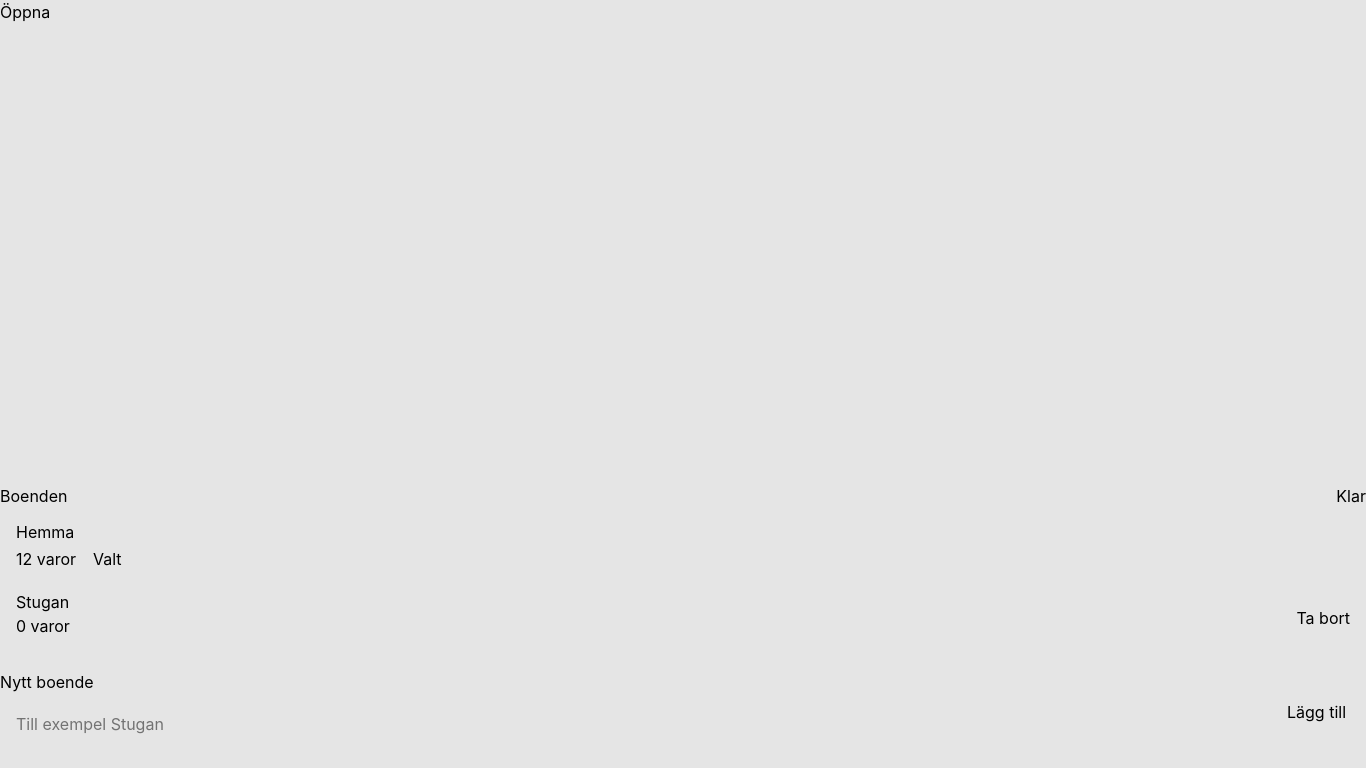
Test: SitesSheet › shows the server's message for a taken name under the field
Type "stugan" into the field labelled "Nytt boende". click: (630, 724)
box: [0,700,1259,748]
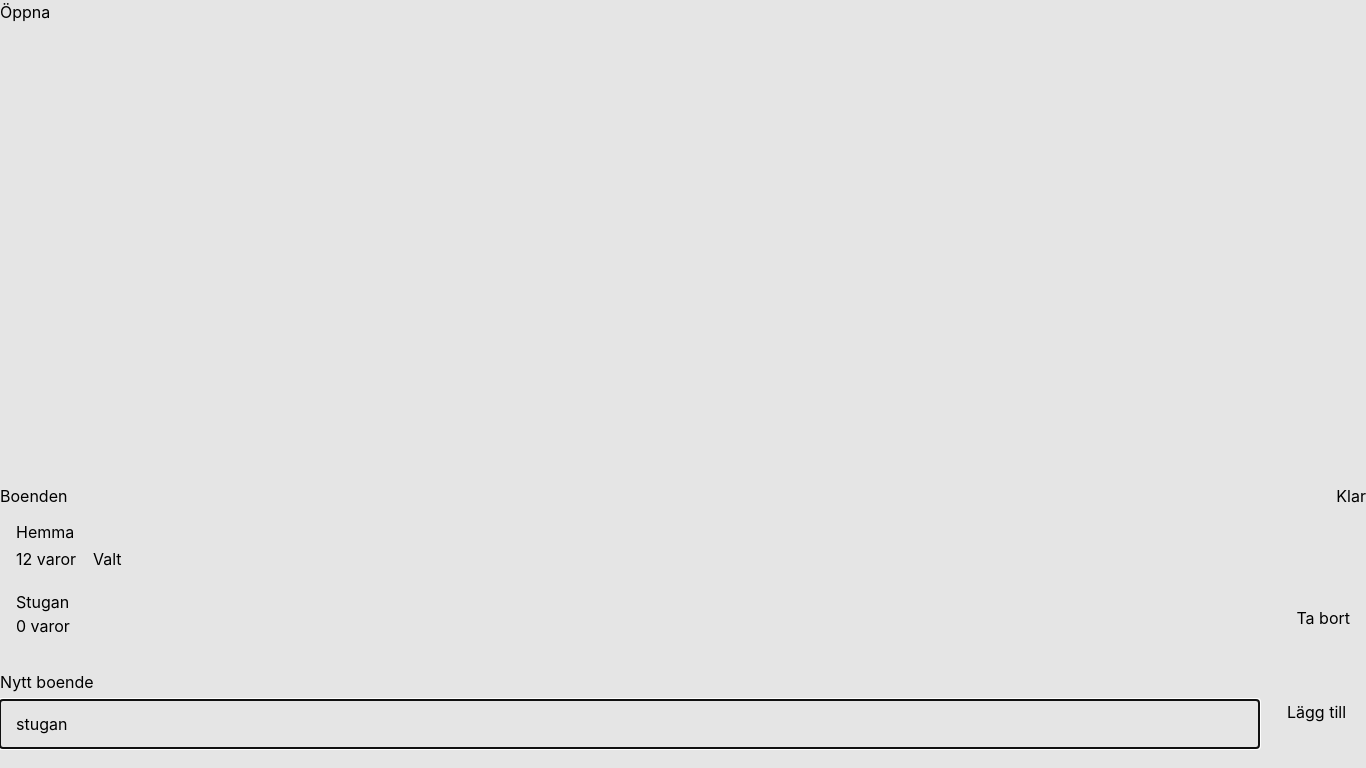
Click the button "Lägg till". click: (1316, 712)
box: [1267,700,1365,724]
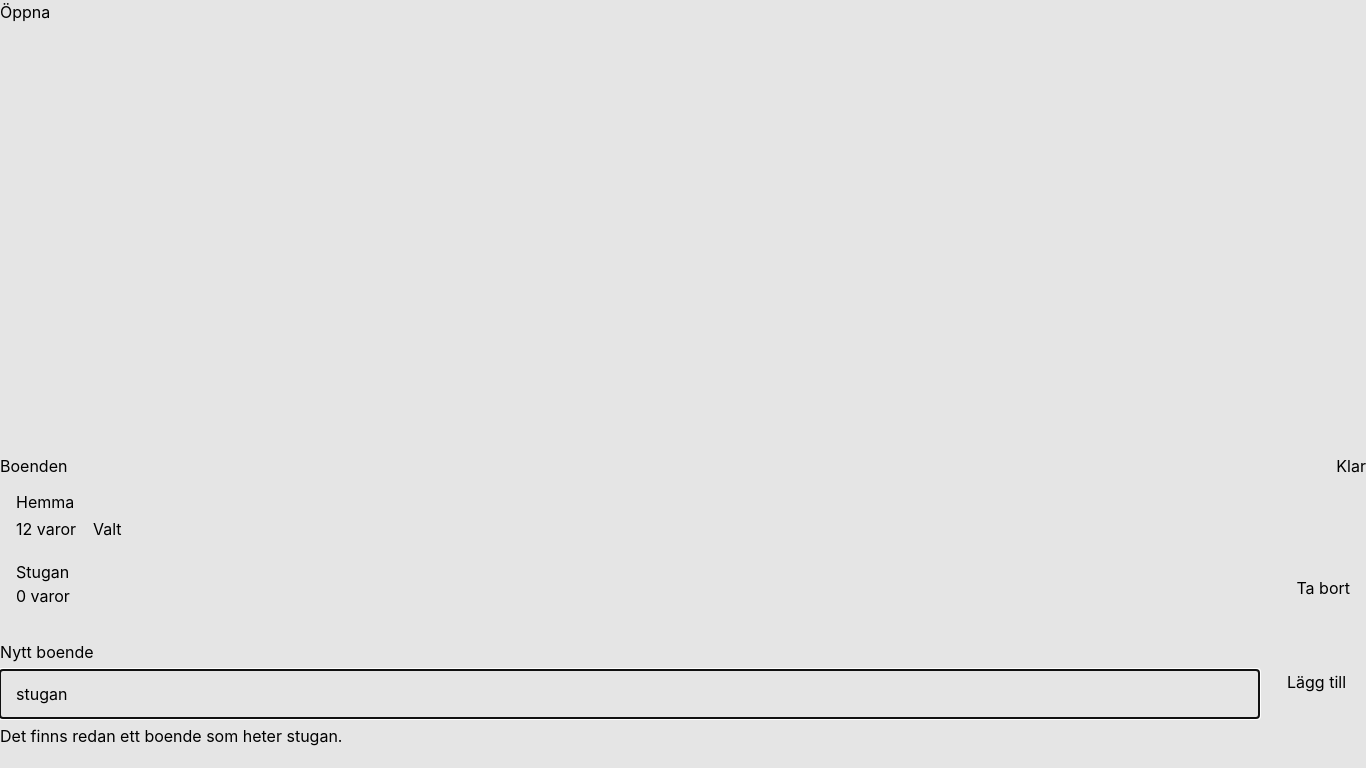
Result: the text "Det finns redan ett boende som heter stugan." is shown at [0,726,342,746]
